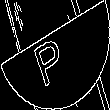P_NW: (35, 24, 75, 86)
